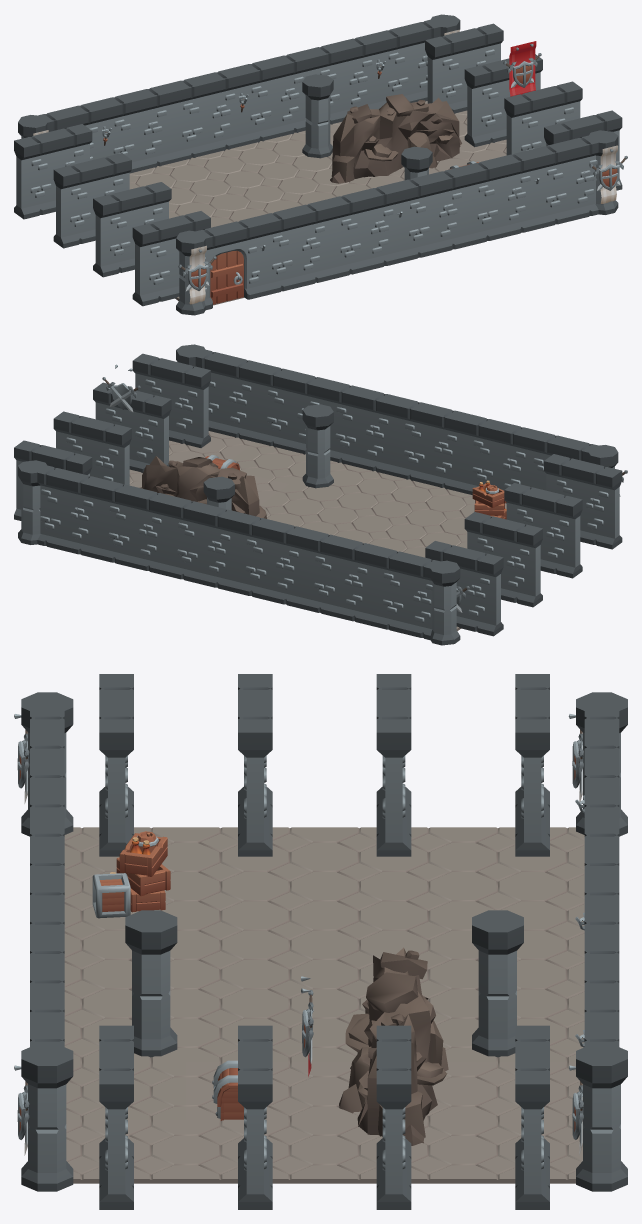
Rendered from dungeon_01.glb.
3 renders of one model, top to bottom at view 1: azimuth 30°, elevation 25°; view 2: azimuth 150°, elevation 25°; view 3: azimuth 270°, elevation 25°, orthographic. The views are drawn at different scales.
Visible parts, largest first — view 1: rubble_large, wall.001, wall.005, wall.003, wall.007, wall.004, wall.006, wall.002, wall.009, wall.013, wall.017, wall.015 (+24 smaller); view 2: wall.002, wall.006, wall.004, wall.008, wall.003, wall.005, wall, wall.010, wall.013, wall.001, wall.011, wall.015 (+25 smaller); view 3: rubble_large, floor_tile_large.006, floor_tile_large.009, floor_tile_large.005, floor_tile_large.002, floor_tile_large.001, floor_tile_large.021, pillar_decorated.001, pillar_decorated.003, floor_tile_large.013, floor_tile_large.022, wall.016 (+42 smaller).
Part boxes in pixels (box(x1,y1,x2,y2)): rubble_large: box(330, 94, 461, 183); wall.001: box(255, 200, 333, 295); wall.005: box(392, 166, 470, 262); wall.003: box(324, 183, 402, 278); wall.007: box(461, 150, 539, 245); wall.004: box(166, 67, 243, 162); wall.006: box(234, 51, 312, 145); wall.002: box(97, 84, 175, 173); wall.009: box(530, 134, 607, 228); wall.013: box(93, 182, 171, 277); wall.017: box(14, 124, 92, 219); wall.015: box(53, 153, 131, 248); wall.002: box(302, 530, 380, 625); wall.006: box(165, 496, 243, 592); wall.004: box(234, 513, 311, 608); wall.008: box(97, 480, 174, 575); wall.003: box(392, 397, 470, 492); wall.005: box(323, 381, 401, 475); wall: box(371, 547, 448, 640); wall.010: box(32, 465, 106, 558); wall.013: box(504, 483, 582, 578); wall.001: box(461, 414, 538, 503); wall.011: box(544, 454, 622, 549); wall.015: box(464, 512, 542, 607); rubble_large: box(339, 947, 448, 1145); floor_tile_large.006: box(324, 886, 463, 945); floor_tile_large.009: box(186, 944, 324, 1003); floor_tile_large.005: box(186, 886, 324, 945); floor_tile_large.002: box(324, 827, 463, 886); floor_tile_large.001: box(186, 827, 324, 886); floor_tile_large.021: box(186, 1120, 324, 1183); pillar_decorated.001: box(14, 1044, 73, 1191); pillar_decorated.003: box(569, 1044, 627, 1191); floor_tile_large.013: box(186, 1003, 324, 1062); floor_tile_large.022: box(324, 1120, 463, 1183); wall.016: box(376, 1025, 411, 1209).
Bounding box in the file's own units: 28 × 6.33 × 17.71.
Materials: 60 (60 with a texture image).
